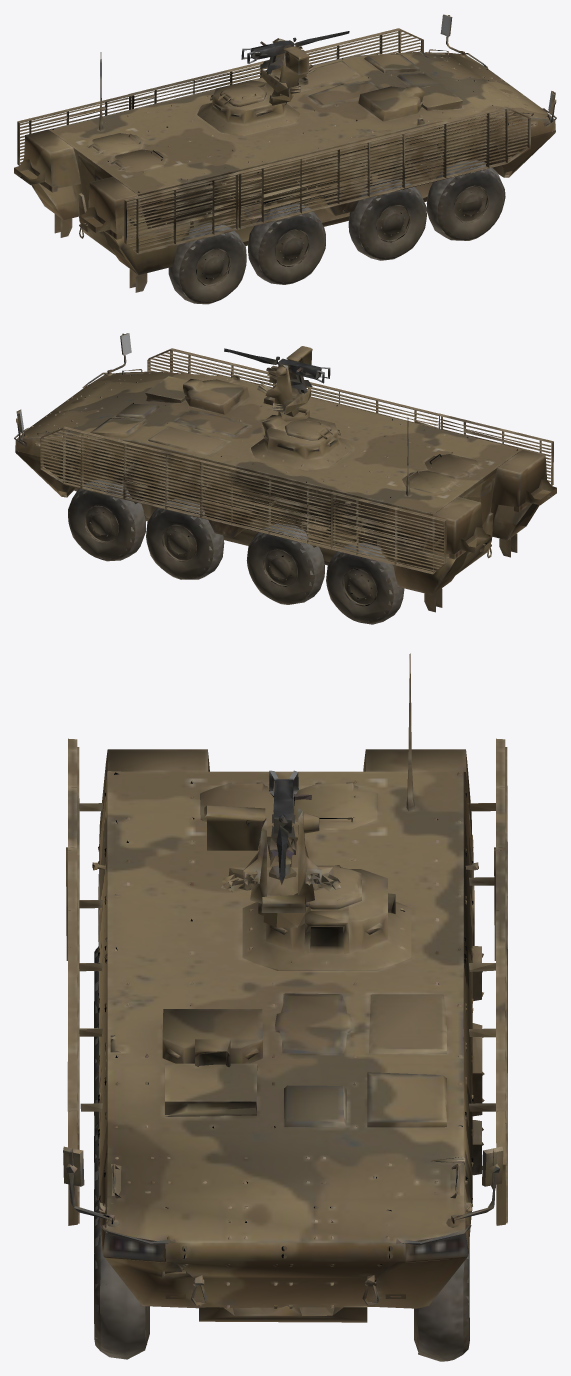
Rendered from fh_battle_e_convoy_ifv.glb.
The picture shows the model from 3 angles, top to bottom: view 1: azimuth 30°, elevation 25°; view 2: azimuth 150°, elevation 25°; view 3: azimuth 270°, elevation 25°; orthographic projection. The views are drawn at different scales.
Visible parts, largest first — view 1: convoy_ifv, wheel_f2r, wheel_fr, wheel_2r, wheel_1r, turret; view 2: convoy_ifv, wheel_fl, wheel_f2l, wheel_1l, wheel_2l, turret; view 3: convoy_ifv, turret, wheel_fr.
Part boxes in pixels (<box>): convoy_ifv: <box>14,14,556,304</box>; wheel_f2r: <box>349,187,426,259</box>; wheel_fr: <box>426,162,504,240</box>; wheel_2r: <box>179,231,246,303</box>; wheel_1r: <box>248,210,325,284</box>; turret: <box>241,31,349,96</box>; convoy_ifv: <box>14,333,556,624</box>; wheel_fl: <box>68,488,145,560</box>; wheel_f2l: <box>146,507,213,579</box>; wheel_1l: <box>247,532,324,604</box>; wheel_2l: <box>326,551,404,623</box>; turret: <box>224,346,330,416</box>; convoy_ifv: <box>63,653,507,1361</box>; turret: <box>204,770,341,912</box>; wheel_fr: <box>94,1198,149,1350</box>.
Bounding box in the file's own units: 0.9999 × 0.4269 × 0.4146.
1 material, 1 textured.
